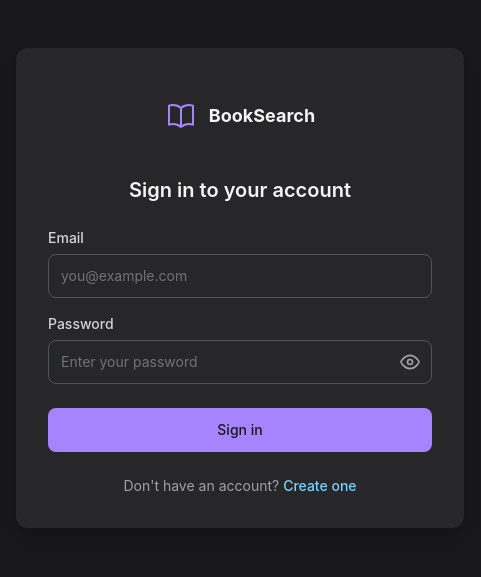
Test: LoginView › shows error AlertMessage when login fails
This screenshot has width=481, height=577.
Type "user@example.com" into the field labelled "Email".
click(240, 276); type("user@example.com")  # box [48,254,432,298]
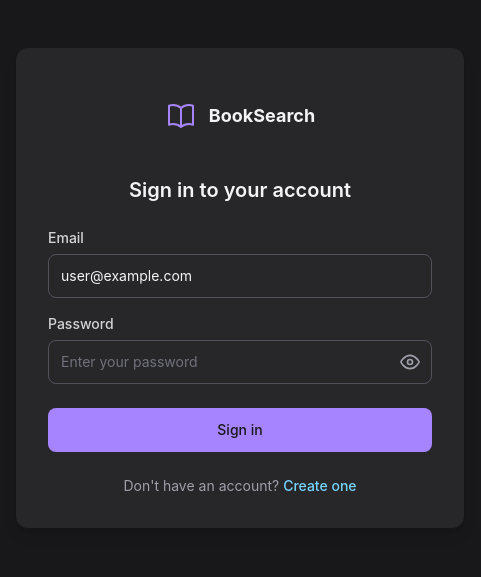
Type "password123" into the password field labelled "Password".
click(240, 362); type("password123")  # box [48,340,432,384]
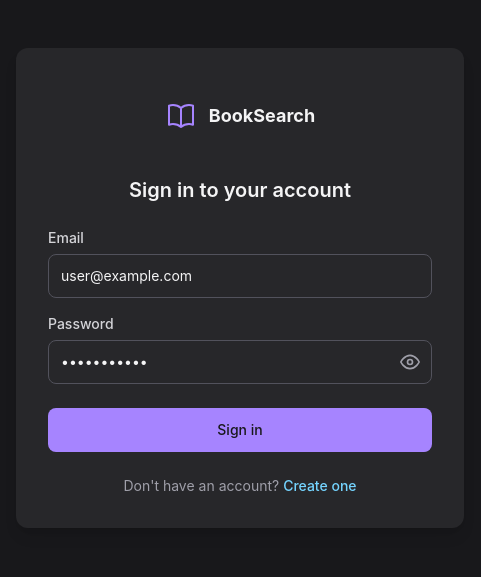
Submit the form, box [48,228,432,452]
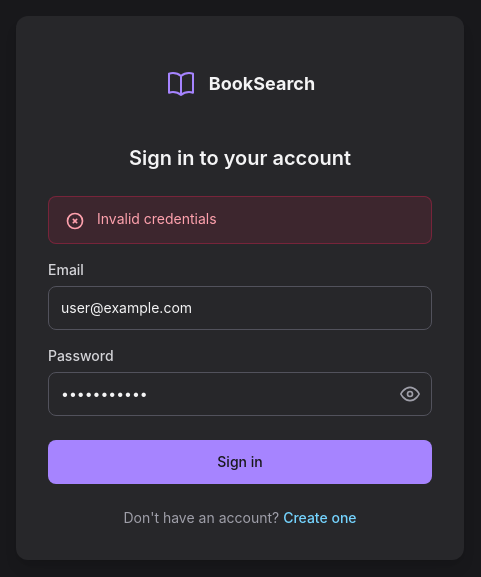
expect the message "Invalid credentials" is shown: met, box [48,196,432,244]
